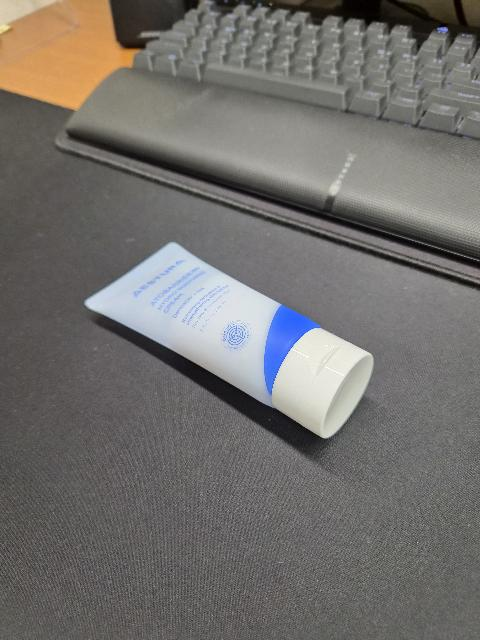handcream: (84, 242, 373, 439)
